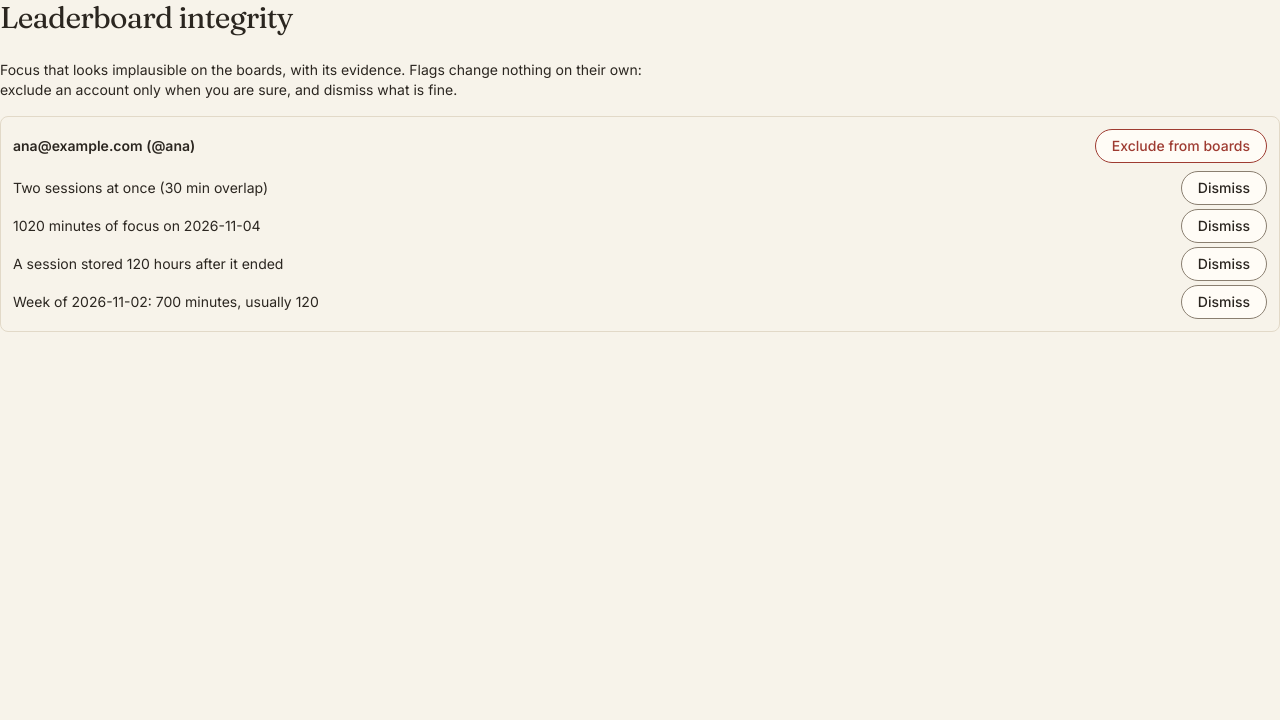
Scenario: leaderboard integrity (D7.1) › excludes the account from boards with a reason
This screenshot has width=1280, height=720.
Expected: the heading "ana@example.com (@ana)" is shown, x1=13 y1=136 x2=195 y2=156
Click the button with aria-label "Exclude ana@example.com from boards" at (1181, 146), box x1=1095 y1=129 x2=1267 y2=163
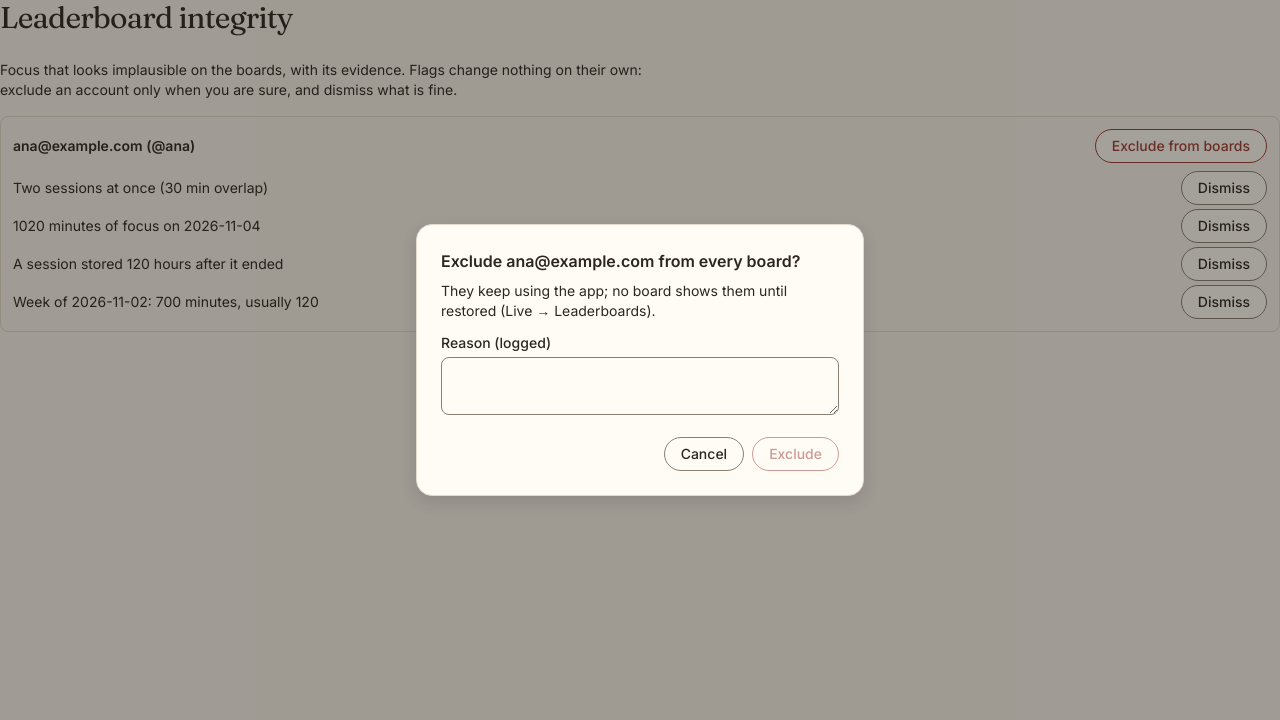
Type "Scripted sessions" into the text box labelled "Reason (logged)" at (640, 386), box x1=441 y1=357 x2=839 y2=415
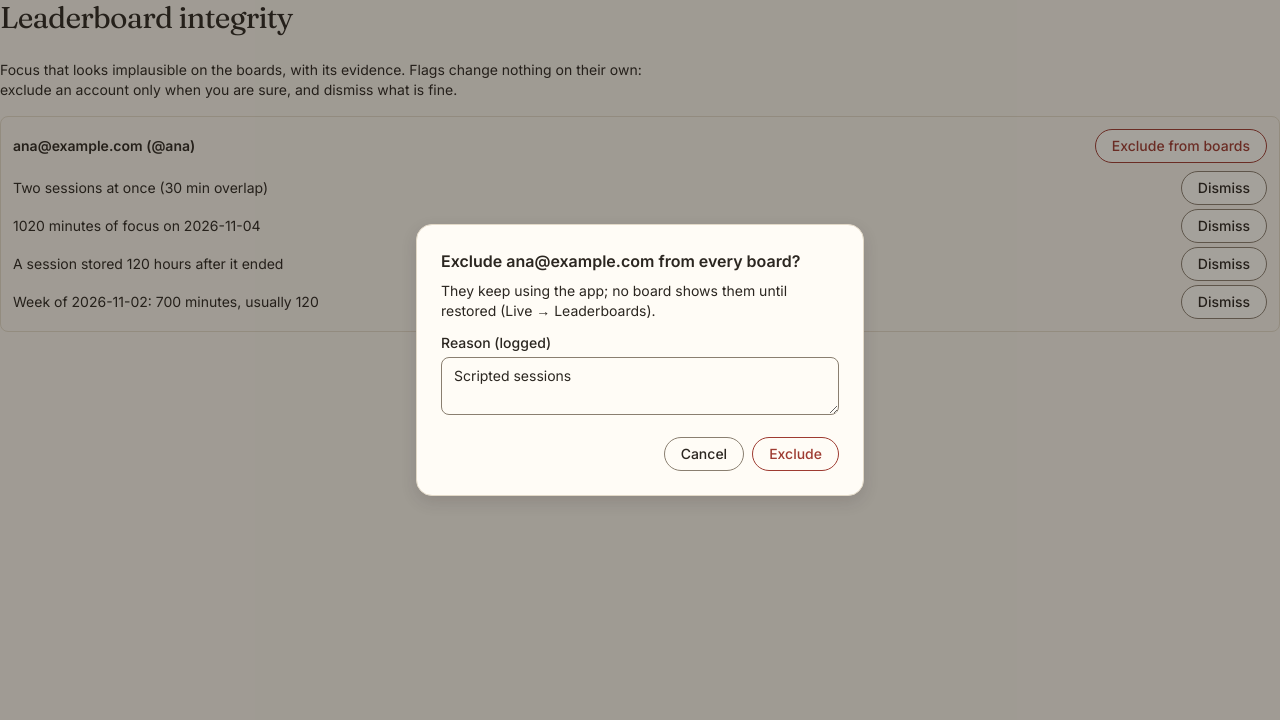
Click the button "Exclude" at (796, 454), box x1=752 y1=437 x2=839 y2=471
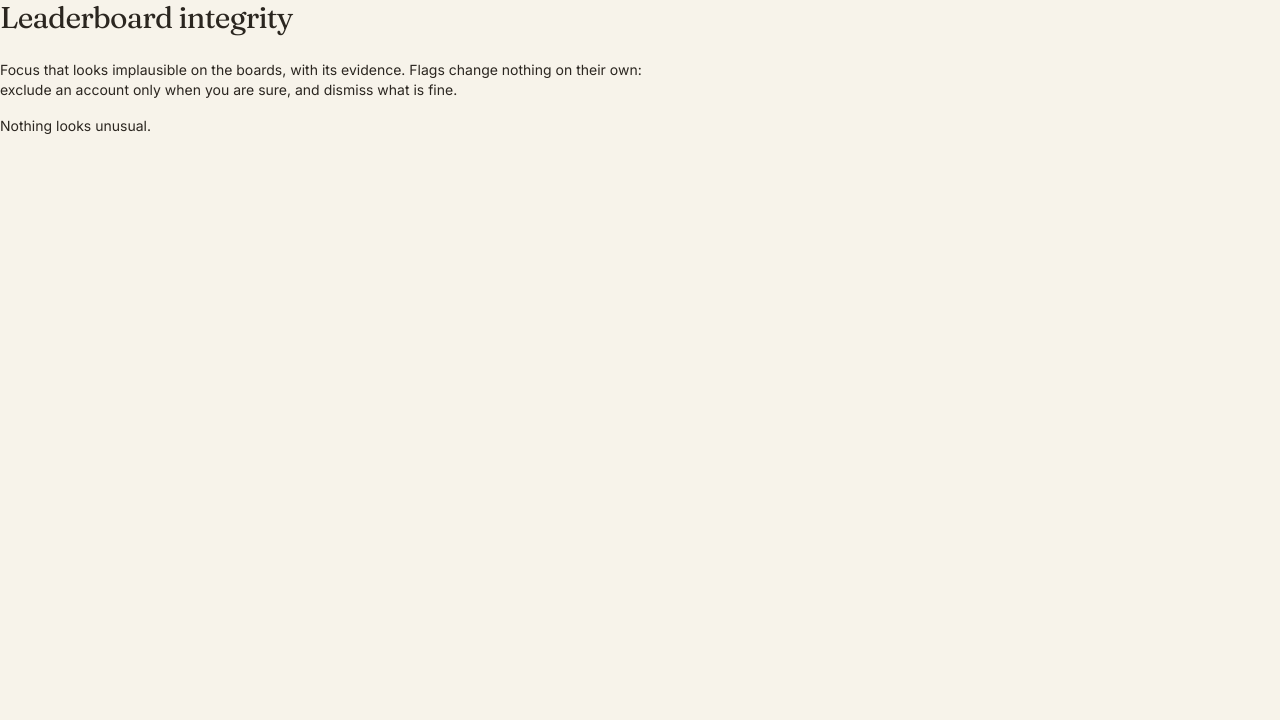
Expected: the text "Nothing looks unusual." is shown, x1=0 y1=117 x2=151 y2=134
